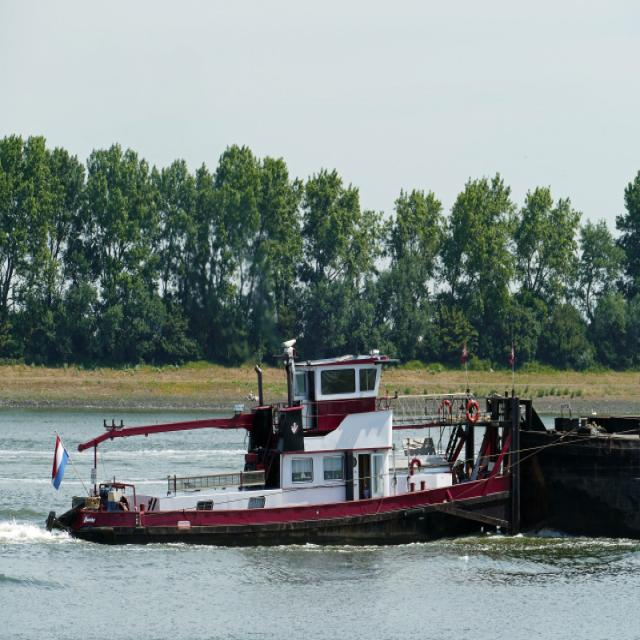tugboat: (46, 334, 529, 573)
